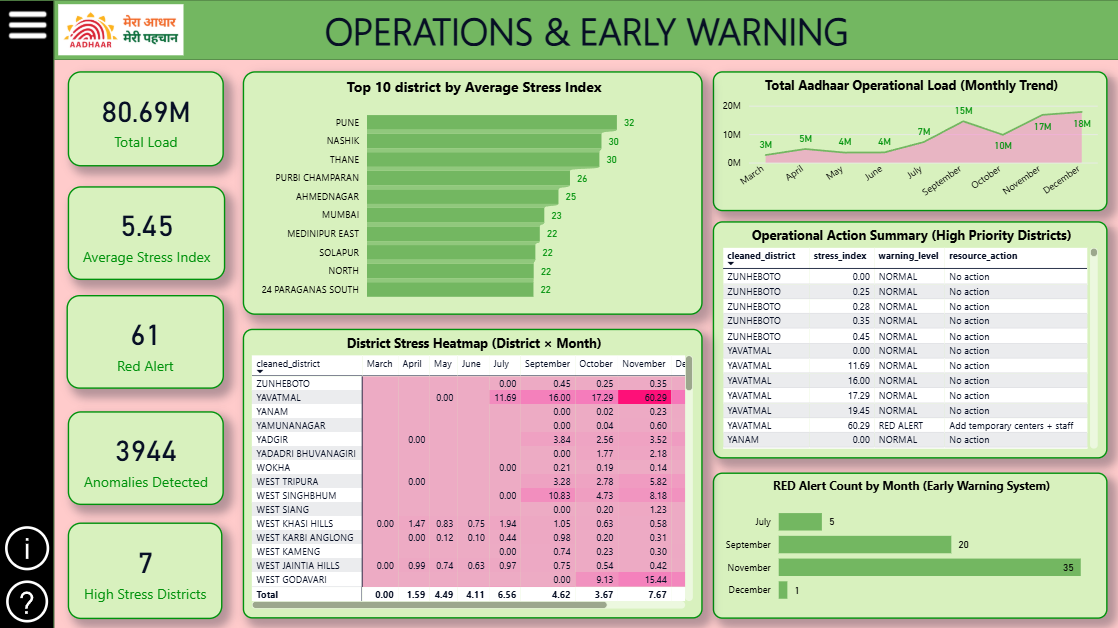

The dashboard page shown, as its layout file describes it:
{"tool":"powerbi","page":{"name":"OPERATIONS & EARLY WARNING","canvas":[1280,720],"ordinal":0},"visuals":[{"type":"shape","box":[0,0,63.1,720.4],"z":0},{"type":"group","id":"g1","title":"Menu bar","box":[0,0,65.9,720.4],"z":1000},{"type":"actionButton","title":"Ques","box":[1.4,654.3,61.4,65.7],"z":1000,"group":"g1"},{"type":"shape","box":[62.9,0,1217.1,68.6],"z":2000},{"type":"actionButton","title":"Info","box":[0,592.9,64.3,67.1],"z":2000,"group":"g1"},{"type":"actionButton","title":"Menu","box":[4.3,0,61.4,57.1],"z":3000,"group":"g1"},{"type":"card","fields":{"Values":["POWERBI_ops_table.Total Load"]},"box":[78.6,81.4,178.6,108.6],"z":3000},{"type":"lineChart","title":"Total Aadhaar Operational Load (Monthly Trend)","fields":{"Category":["POWERBI_ops_table.month_year.Variation.Date Hierarchy.Month"],"Y":["Sum(POWERBI_ops_table.total_load)"]},"box":[815.7,81.4,451.4,160],"z":4000},{"type":"barChart","title":"Top 10 district by Average Stress Index","fields":{"Category":["POWERBI_ops_table.cleaned_district"],"Y":["Avg(POWERBI_ops_table.stress_index)"]},"box":[278.6,81.4,525.7,278.6],"z":5000},{"type":"tableEx","title":"Operational Action Summary (High Priority Districts)","fields":{"Values":["POWERBI_ops_table.cleaned_district","POWERBI_ops_table.stress_index","POWERBI_ops_table.warning_level","POWERBI_ops_table.resource_action"]},"box":[815.7,252.9,451.4,271.4],"z":6000},{"type":"barChart","title":"RED Alert Count by Month (Early Warning System)","fields":{"Y":["POWERBI_ops_table.Red Alert Count"],"Category":["POWERBI_ops_table.month_year.Variation.Date Hierarchy.Month"]},"box":[815.7,540,451.4,167.1],"z":7000},{"type":"pivotTable","title":"District Stress Heatmap (District × Month)","fields":{"Values":["Avg(POWERBI_ops_table.stress_index)"],"Rows":["POWERBI_ops_table.cleaned_district"],"Columns":["POWERBI_ops_table.month_year.Variation.Date Hierarchy.Month","POWERBI_ops_table.month_year.Variation.Date Hierarchy.Day"]},"box":[278.6,375.7,525.7,331.4],"z":8000},{"type":"card","fields":{"Values":["POWERBI_ops_table.Avg Stress"]},"box":[78.6,213.1,180,107.1],"z":9000},{"type":"card","fields":{"Values":["POWERBI_ops_table.Red Alert Count"]},"box":[77.1,337.4,180,107.1],"z":10000},{"type":"card","fields":{"Values":["POWERBI_ops_table.High Stress Districts"]},"box":[78.6,597.4,177.1,110],"z":11000},{"type":"card","fields":{"Values":["CountNonNull(POWERBI_ops_table.anomaly_flag)"]},"box":[78.6,470.3,178.6,107.1],"z":12000},{"type":"textbox","box":[62.9,0,1217.1,68.6],"z":13000},{"type":"image","box":[62.9,0,152.9,68.6],"z":14000}]}

Visuals, with their boxes in screenshot pixels (x1, y1, x2, y2), scaled from the page's 1280x720 canvas onto the 1118x628 screenshot:
shape: 0, 0, 55, 627
"Menu bar" group: 0, 0, 58, 627
"Ques" actionButton: 1, 571, 55, 627
shape: 55, 0, 1117, 60
"Info" actionButton: 0, 517, 56, 576
"Menu" actionButton: 4, 0, 57, 50
card - POWERBI_ops_table.Total Load: 69, 71, 225, 166
"Total Aadhaar Operational Load (Monthly Trend)" lineChart: 712, 71, 1107, 211
"Top 10 district by Average Stress Index" barChart: 243, 71, 703, 314
"Operational Action Summary (High Priority Districts)" tableEx: 712, 221, 1107, 457
"RED Alert Count by Month (Early Warning System)" barChart: 712, 471, 1107, 617
"District Stress Heatmap (District × Month)" pivotTable: 243, 328, 703, 617
card - POWERBI_ops_table.Avg Stress: 69, 186, 226, 279
card - POWERBI_ops_table.Red Alert Count: 67, 294, 225, 388
card - POWERBI_ops_table.High Stress Districts: 69, 521, 223, 617
card - CountNonNull(POWERBI_ops_table.anomaly_flag): 69, 410, 225, 504
textbox: 55, 0, 1117, 60
image: 55, 0, 188, 60
